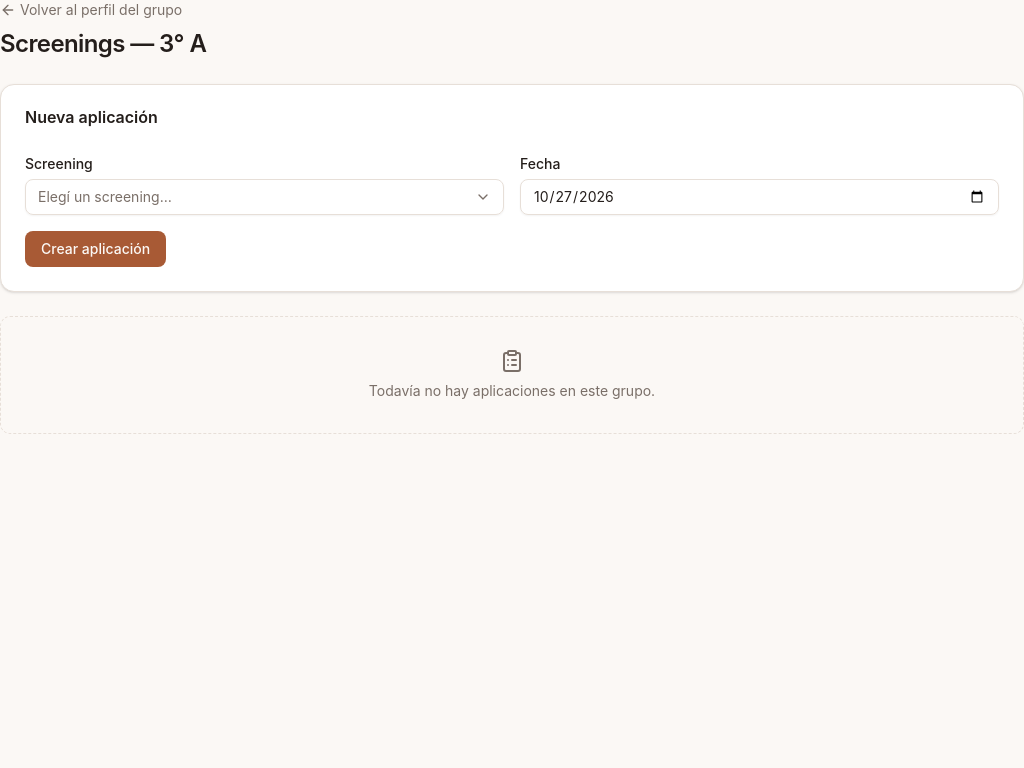
it: ScreeningTestApplicationPage › offers only types with an approved design in the Nueva aplicación select
Expected: the text "Elegí un screening…" is shown, [38,187,172,207]
Click the button labelled "Elegí un screening…".
click(105, 196)  # box [25,179,504,215]
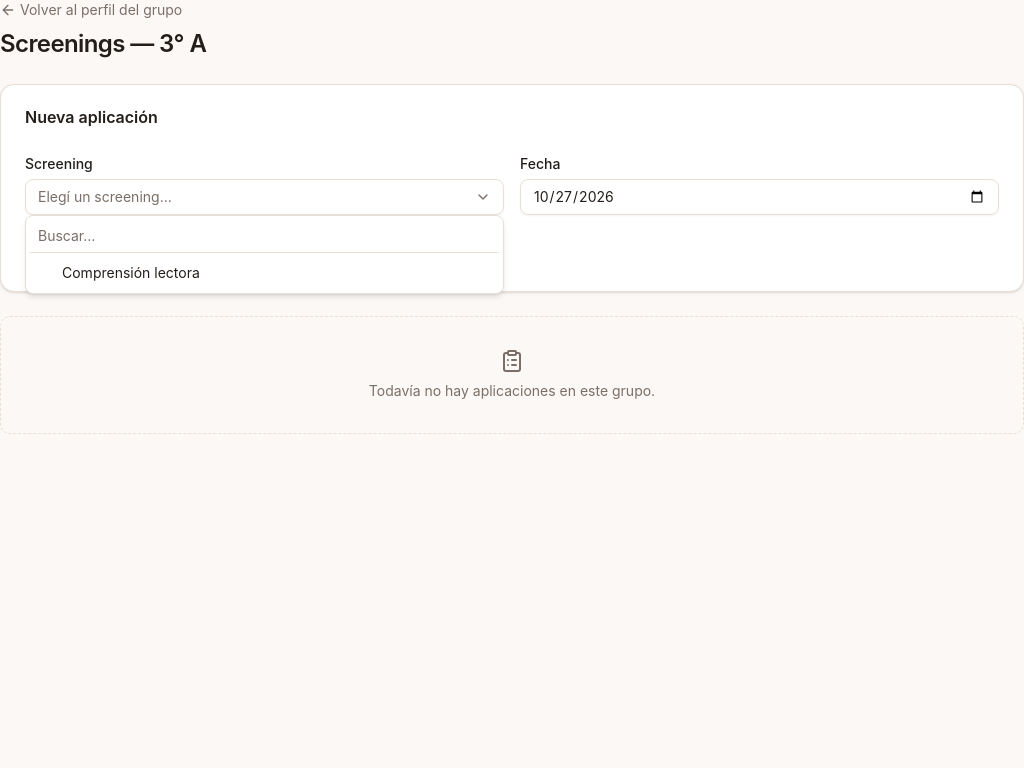
Now the button "Comprensión lectora" is shown, box [30,257,499,289]
